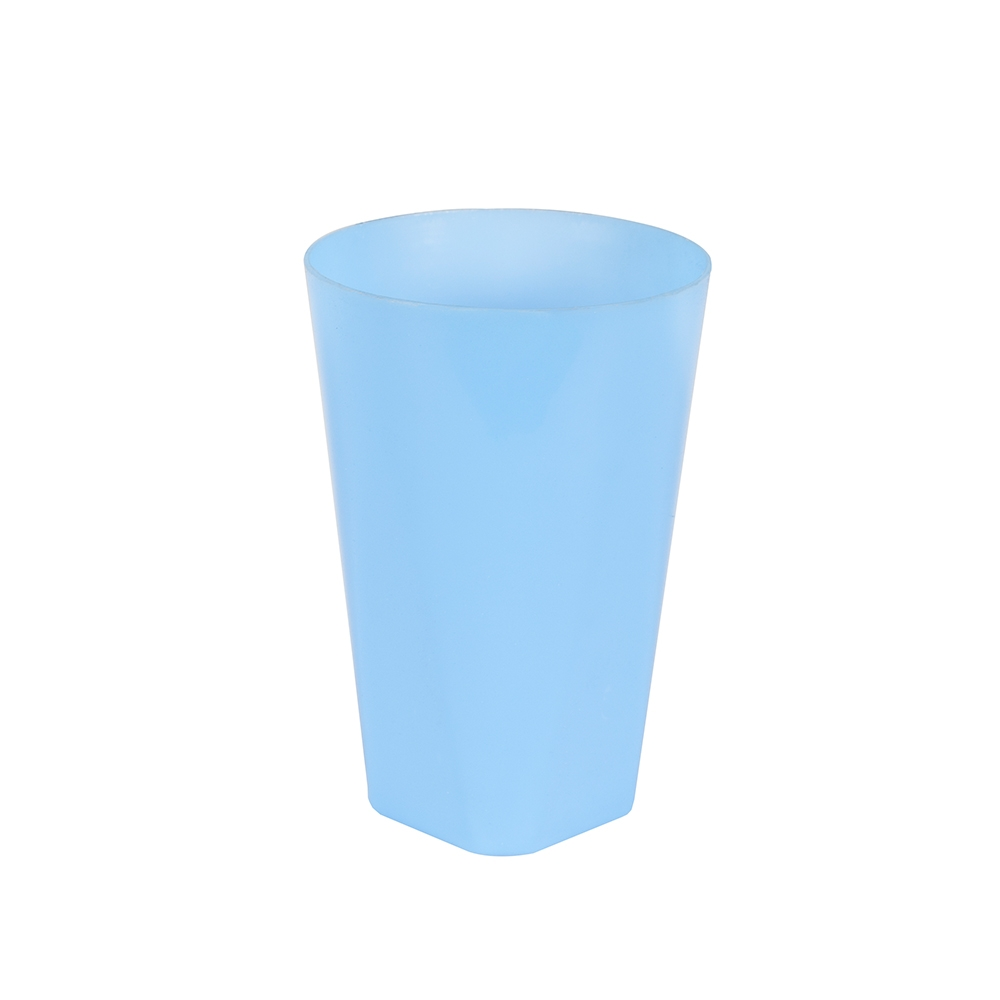plastic_glass: (298, 201, 734, 861)
